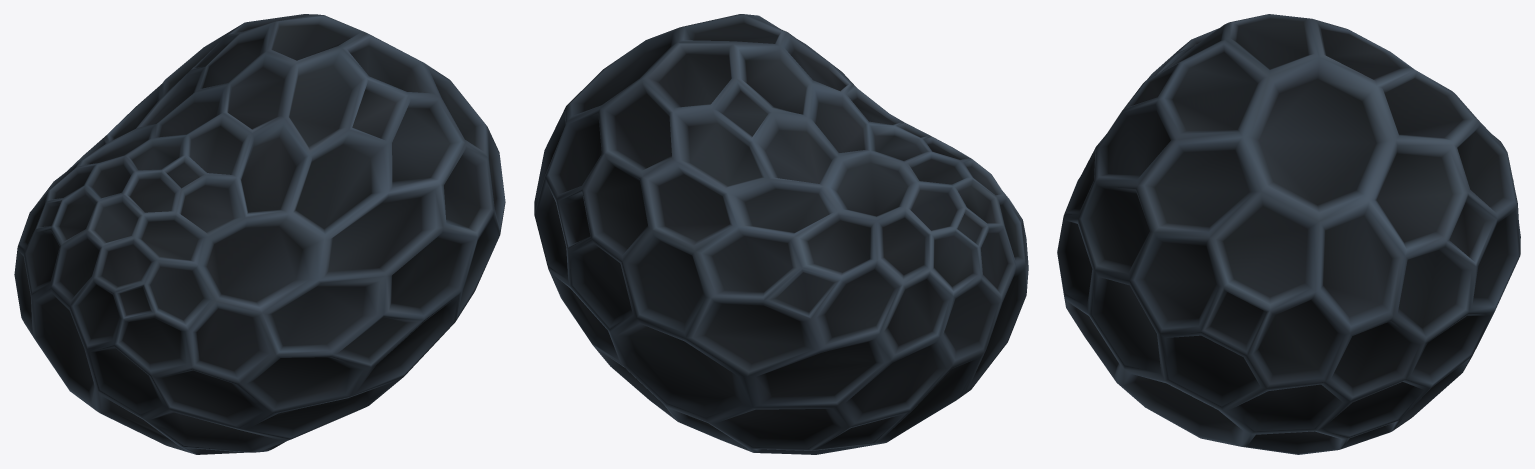
The model's file is trees-seeds-nuts-poppy-seed_v3.glb.
3 renders of one model, left to right at view 1: azimuth 30°, elevation 25°; view 2: azimuth 150°, elevation 25°; view 3: azimuth 270°, elevation 25°, orthographic. The views are drawn at different scales.
Parts seen in each view (by area): view 1: Poppy Seed_v3; view 2: Poppy Seed_v3; view 3: Poppy Seed_v3.
Part boxes in pixels (bbox=[...]): Poppy Seed_v3: bbox=[14, 14, 505, 454]; Poppy Seed_v3: bbox=[534, 14, 1028, 454]; Poppy Seed_v3: bbox=[1057, 14, 1520, 454].
Size of the model in its own units: 0.1 by 0.0827 by 0.0791.
